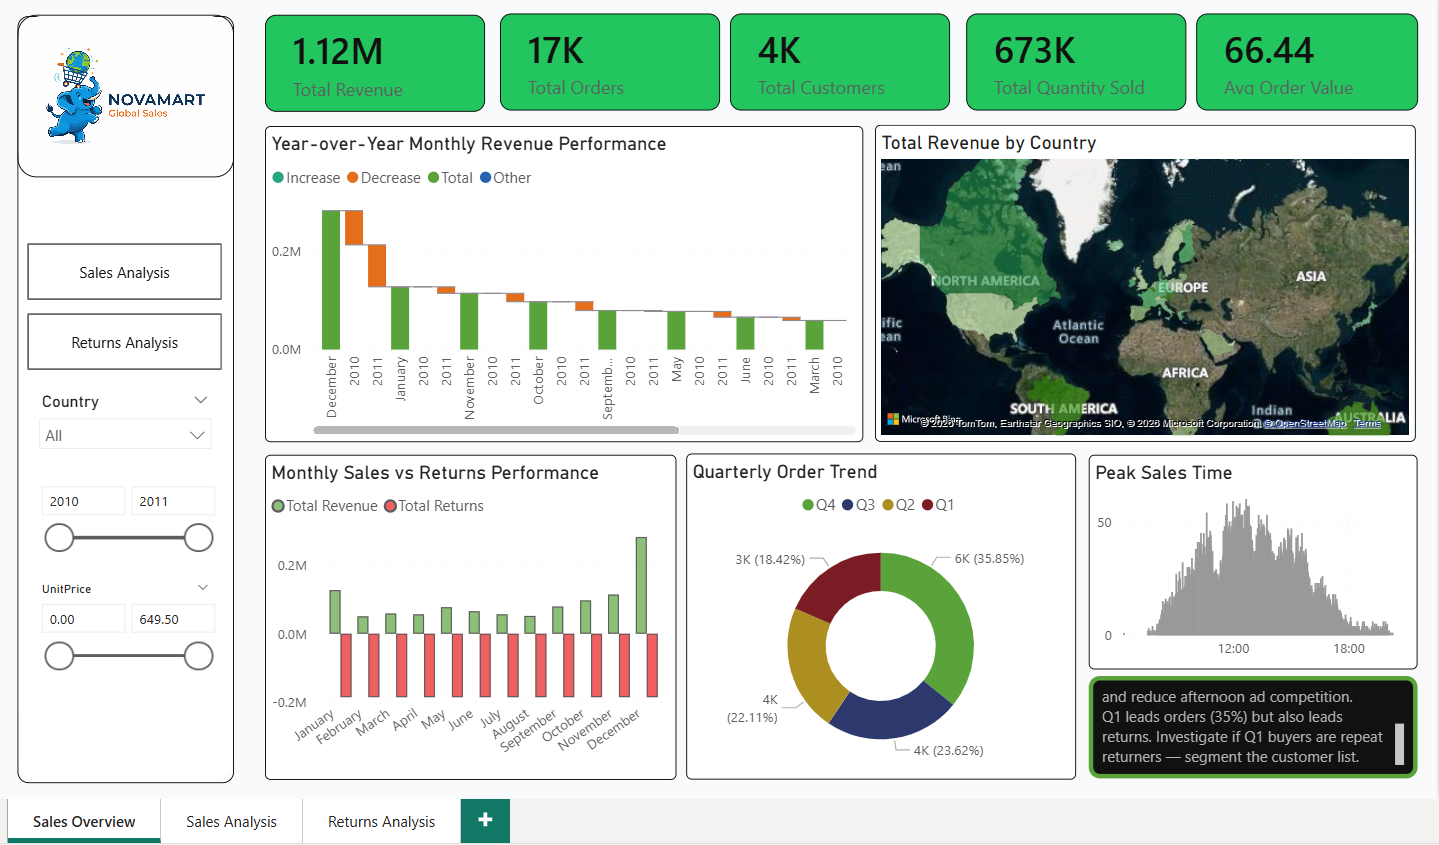

The page's visual inventory and layout, read from the dashboard file:
{"tool":"powerbi","page":{"name":"Sales Overview","canvas":[1280,720],"ordinal":0},"visuals":[{"type":"shape","box":[15.3,22.2,193.1,683.3],"z":0},{"type":"image","box":[15.3,20.8,193.1,144.4],"z":1000},{"type":"cardVisual","fields":{"Data":["Sales.Total Revenue"]},"box":[236.2,21.2,196.2,86.2],"z":2000},{"type":"pageNavigator","box":[25,225,173.6,50],"z":3000},{"type":"waterfallChart","title":"Year-over-Year Monthly Revenue Performance","fields":{"Category":["Sales.Month_Name"],"Y":["Sales.Total Revenue"],"Breakdown":["Sales.Year"]},"box":[235.7,120,532.9,281.4],"z":4000},{"type":"pageNavigator","box":[25,287.5,173.6,50],"z":5000},{"type":"slicer","fields":{"Values":["Sales.Country"]},"box":[25,351.4,173.6,79.2],"z":6000},{"type":"slicer","fields":{"Values":["Sales.Year"]},"box":[25,430.6,173.6,90.3],"z":7000},{"type":"slicer","fields":{"Values":["Sales.UnitPrice"]},"box":[25,520.8,173.6,88.9],"z":8000},{"type":"cardVisual","fields":{"Data":["Sales.Total Orders"]},"box":[445,20,196.2,86.2],"z":9000},{"type":"cardVisual","fields":{"Data":["Sales.Total Customers"]},"box":[650,20,196.2,86.2],"z":10000},{"type":"cardVisual","fields":{"Data":["Sales.Total Quantity Sold"]},"box":[860,20,196.2,86.2],"z":11000},{"type":"cardVisual","fields":{"Data":["Returns.Avg Order Value"]},"box":[1065,20,197.5,86.2],"z":12000},{"type":"donutChart","title":"Quarterly Order Trend","fields":{"Y":["Sales.Total Orders"],"Category":["Sales.Quarter"]},"box":[611.4,411.4,347.1,290],"z":13000},{"type":"clusteredColumnChart","title":"Monthly Sales vs Returns Performance","fields":{"Y":["Sales.Total Revenue","Returns.Total Returns"],"Category":["Sales.Date.Variation.Date Hierarchy.Month"]},"box":[236,413,366.4,289.5],"z":14000},{"type":"filledMap","fields":{"Category":["Sales.Country"]},"box":[779.4,119.4,481.6,282.7],"z":15000},{"type":"columnChart","title":"Peak Sales Time","fields":{"Y":["CountNonNull(Sales.Stock_Code)"],"Category":["Sales.Time"]},"box":[970,412.9,292.9,191.4],"z":16000},{"type":"textbox","box":[970,610,292.9,91.4],"z":17000}]}

Visuals, with their boxes in screenshot pixels (x1, y1, x2, y2):
shape: <region>17, 13, 231, 771</region>
image: <region>17, 12, 231, 172</region>
cardVisual - Sales.Total Revenue: <region>262, 12, 479, 108</region>
pageNavigator: <region>28, 238, 220, 294</region>
"Year-over-Year Monthly Revenue Performance" waterfallChart: <region>261, 122, 852, 434</region>
pageNavigator: <region>28, 308, 220, 363</region>
slicer - Sales.Country: <region>28, 378, 220, 466</region>
slicer - Sales.Year: <region>28, 466, 220, 566</region>
slicer - Sales.UnitPrice: <region>28, 566, 220, 665</region>
cardVisual - Sales.Total Orders: <region>493, 11, 711, 107</region>
cardVisual - Sales.Total Customers: <region>721, 11, 938, 107</region>
cardVisual - Sales.Total Quantity Sold: <region>953, 11, 1171, 107</region>
cardVisual - Returns.Avg Order Value: <region>1181, 11, 1400, 107</region>
"Quarterly Order Trend" donutChart: <region>678, 445, 1063, 766</region>
"Monthly Sales vs Returns Performance" clusteredColumnChart: <region>262, 447, 668, 768</region>
filledMap - Sales.Country: <region>864, 121, 1398, 435</region>
"Peak Sales Time" columnChart: <region>1075, 447, 1400, 659</region>
textbox: <region>1075, 665, 1400, 766</region>
